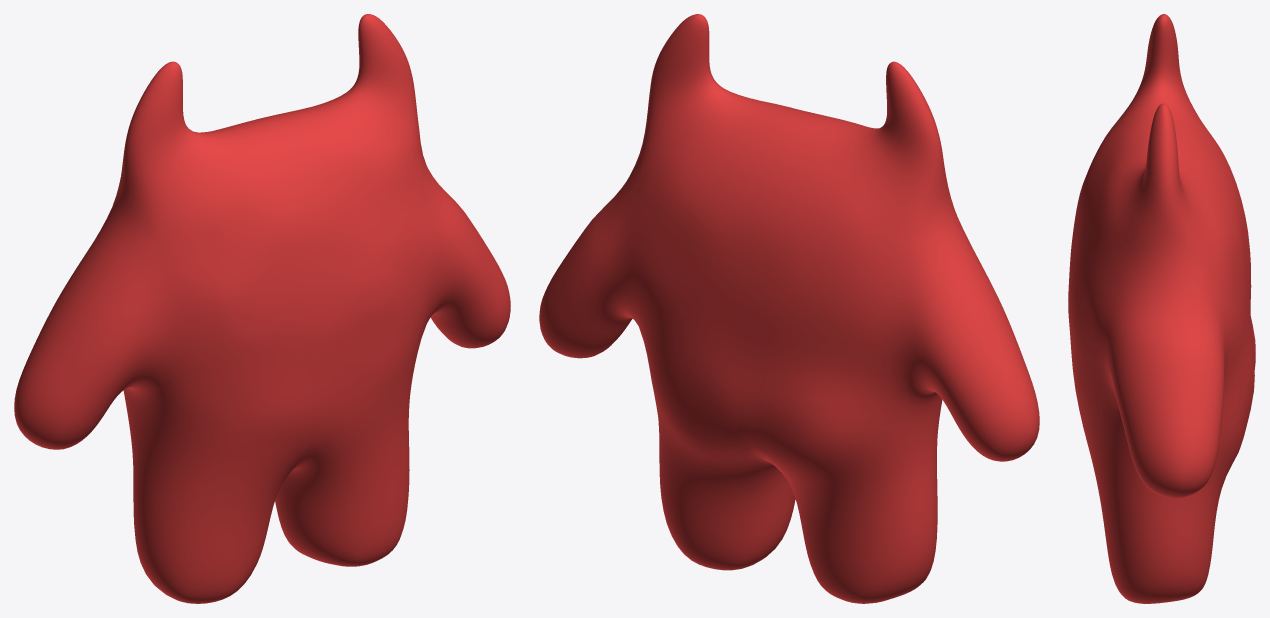
Rendered from demon1.glb.
The picture shows the model from 3 angles, left to right: view 1: azimuth 30°, elevation 25°; view 2: azimuth 150°, elevation 25°; view 3: azimuth 270°, elevation 25°; orthographic projection. The views are drawn at different scales.
Parts seen in each view (by area): view 1: Demon.001; view 2: Demon.001; view 3: Demon.001.
Boxes of the visible parts, box(x1,y1,x2,y2) form: Demon.001: box(14, 14, 510, 603); Demon.001: box(539, 14, 1039, 603); Demon.001: box(1068, 14, 1255, 603).
Size of the model in its own units: 2.34 by 2.44 by 0.8297.
